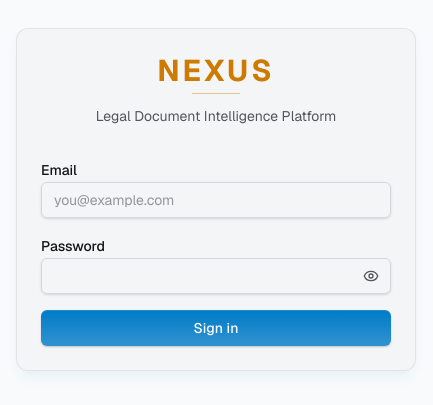
it: LoginPage › shows validation error for invalid email on submit
The width and height of the screenshot is (433, 405).
In the field labelled "Email": {"x": 216, "y": 200} [41,182,391,218], type "not-an-email"
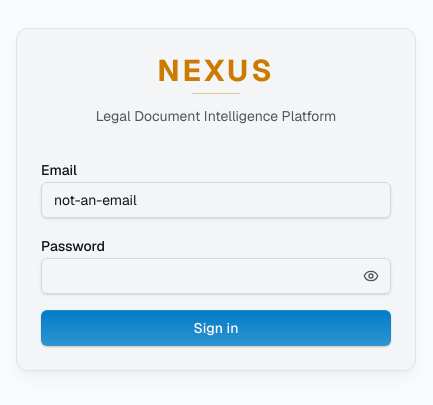
In the password field labelled "Password": {"x": 216, "y": 276} [41,258,391,294], type "password123"
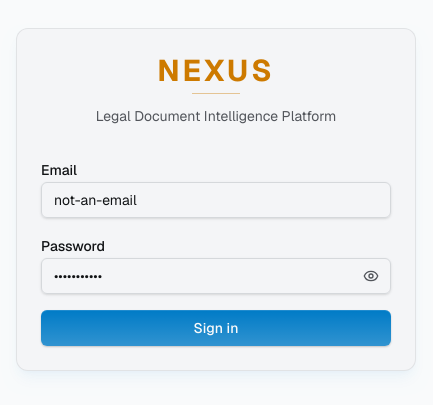
Submit the form "Sign in", box [41,158,391,346]
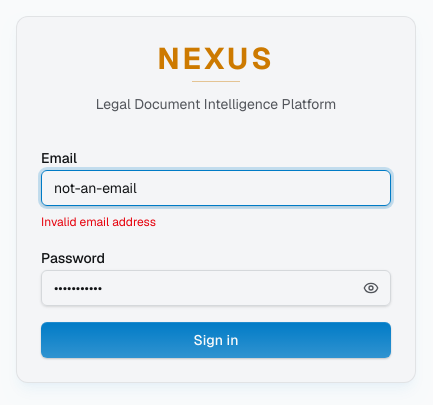
Expected: the text "Invalid email address" is shown, [41,214,156,230]
